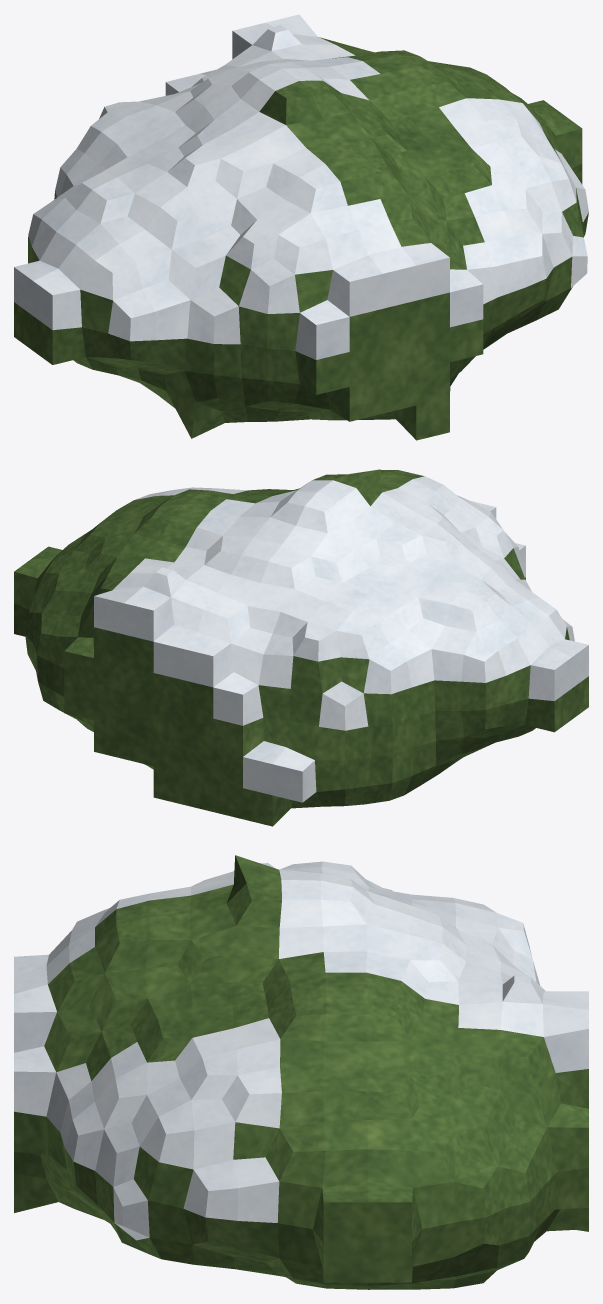
File: shrub_b_snow.glb
The picture shows the model from 3 angles, top to bottom: view 1: azimuth 30°, elevation 25°; view 2: azimuth 150°, elevation 25°; view 3: azimuth 270°, elevation 25°; orthographic projection. The views are drawn at different scales.
Parts seen in each view (by area): view 1: wilds_shrub_b_snow; view 2: wilds_shrub_b_snow; view 3: wilds_shrub_b_snow.
Boxes of the visible parts, <box> form: wilds_shrub_b_snow: <box>14,14,588,440</box>; wilds_shrub_b_snow: <box>14,469,588,826</box>; wilds_shrub_b_snow: <box>14,855,588,1289</box>.
Size of the model in its own units: 1.06 by 0.5 by 0.8125.
Materials: 1 (1 with a texture image).
